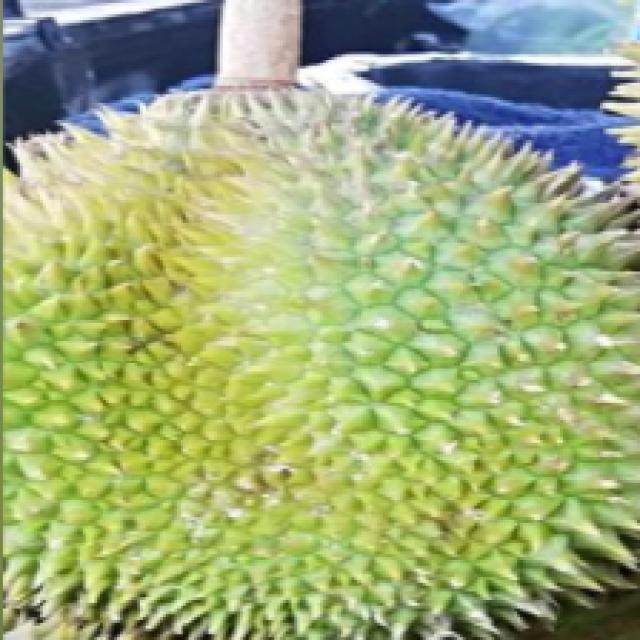d24: (12, 8, 621, 616)
